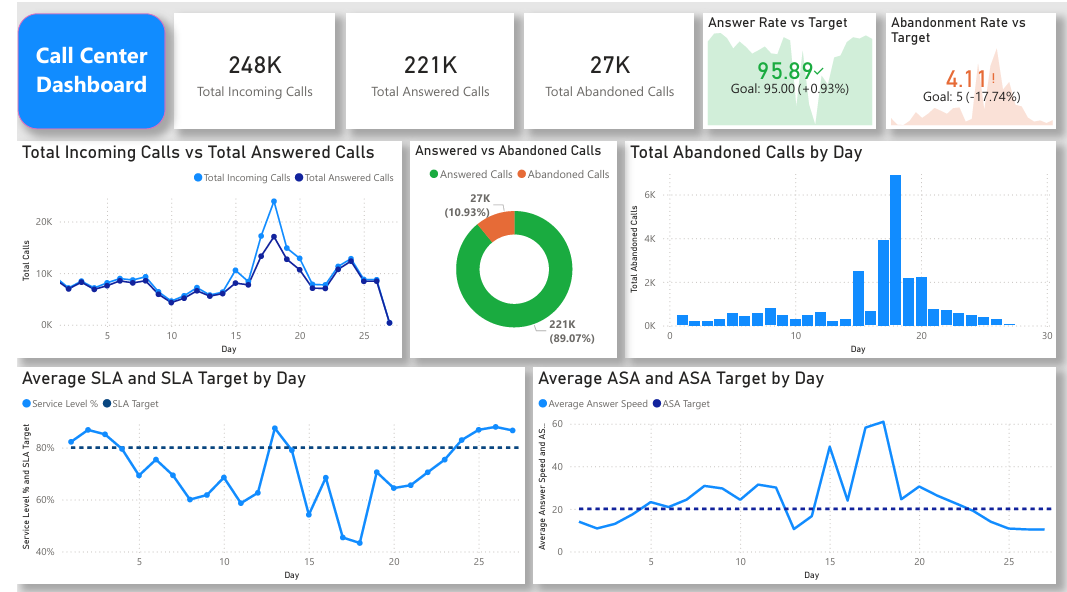

The page's visual inventory and layout, read from the dashboard file:
{"tool":"powerbi","page":{"name":"Page 1","canvas":[1280,720],"ordinal":0},"visuals":[{"type":"card","fields":{"Values":["Call Center Data.Total Incoming Calls"]},"box":[191.3,12.8,195.6,141.7],"z":0},{"type":"card","fields":{"Values":["Call Center Data.Total Answered Calls"]},"box":[401.1,12.8,204.1,141.7],"z":1000},{"type":"card","fields":{"Values":["Call Center Data.Total Abandoned Calls"]},"box":[618,12.8,206.9,141.7],"z":2000},{"type":"kpi","title":"Answer Rate vs Target","fields":{"Indicator":["Call Center Data.Answer Rate %"],"Goal":["Call Center Data.Answer Rate Target"],"TrendLine":["Call Center Data.Date"]},"box":[836.2,12.8,209.8,141.7],"z":3000},{"type":"kpi","title":"Abandonment Rate vs Target","fields":{"Indicator":["Call Center Data.Abandonment Rate %"],"Goal":["Call Center Data.Abandonment Rate Target"],"TrendLine":["Call Center Data.Date"]},"box":[1058.7,12.8,206.9,141.7],"z":4000},{"type":"lineChart","title":"Total Incoming Calls vs Total Answered Calls","fields":{"Y":["Call Center Data.Total Incoming Calls","Call Center Data.Total Answered Calls"],"Category":["Call Center Data.Date.Variation.Date Hierarchy.Day"]},"box":[0,168.7,467.7,263.6],"z":5000},{"type":"columnChart","fields":{"Y":["Call Center Data.Total Abandoned Calls"],"Category":["Call Center Data.Date.Variation.Date Hierarchy.Day"]},"box":[741.3,168.7,524.4,263.6],"z":6000},{"type":"donutChart","title":"Answered vs Abandoned Calls","fields":{"Y":["Call Center Data.Total Answered Calls","Call Center Data.Total Abandoned Calls"]},"box":[479.1,168.7,252.3,263.6],"z":7000},{"type":"textbox","box":[0,12.8,180,141.7],"z":8000},{"type":"lineChart","title":"Average SLA and SLA Target by Day","fields":{"Category":["Call Center Data.Date.Variation.Date Hierarchy.Day"],"Y":["Call Center Data.Service Level %","Call Center Data.SLA Target"]},"box":[0,443.6,618,263.6],"z":9000},{"type":"lineChart","title":"Average ASA and ASA Target by Day","fields":{"Category":["Call Center Data.Date.Variation.Date Hierarchy.Day"],"Y":["Call Center Data.Average Answer Speed","Call Center Data.ASA Target"]},"box":[629.3,443.6,636.4,263.6],"z":10000}]}

Visuals, with their boxes in screenshot pixels (x1, y1, x2, y2), scaled from the page's 1280x720 canvas onto the 1067x592 screenshot:
card - Call Center Data.Total Incoming Calls: detection(159, 11, 323, 127)
card - Call Center Data.Total Answered Calls: detection(334, 11, 504, 127)
card - Call Center Data.Total Abandoned Calls: detection(515, 11, 688, 127)
"Answer Rate vs Target" kpi: detection(697, 11, 872, 127)
"Abandonment Rate vs Target" kpi: detection(883, 11, 1055, 127)
"Total Incoming Calls vs Total Answered Calls" lineChart: detection(0, 139, 390, 355)
columnChart - Call Center Data.Total Abandoned Calls x Call Center Data.Date.Variation.Date Hierarchy.Day: detection(618, 139, 1055, 355)
"Answered vs Abandoned Calls" donutChart: detection(399, 139, 610, 355)
textbox: detection(0, 11, 150, 127)
"Average SLA and SLA Target by Day" lineChart: detection(0, 365, 515, 581)
"Average ASA and ASA Target by Day" lineChart: detection(525, 365, 1055, 581)
